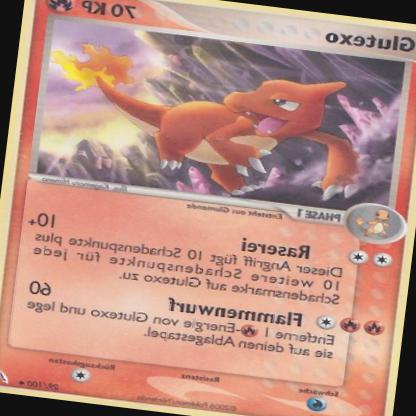Charmeleon: (44, 42, 370, 209)
